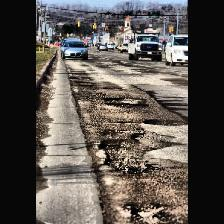pothole: (97, 138, 146, 176), (126, 202, 166, 220), (132, 132, 168, 148), (141, 118, 187, 126), (105, 102, 149, 110), (104, 96, 144, 100), (102, 86, 122, 90)
